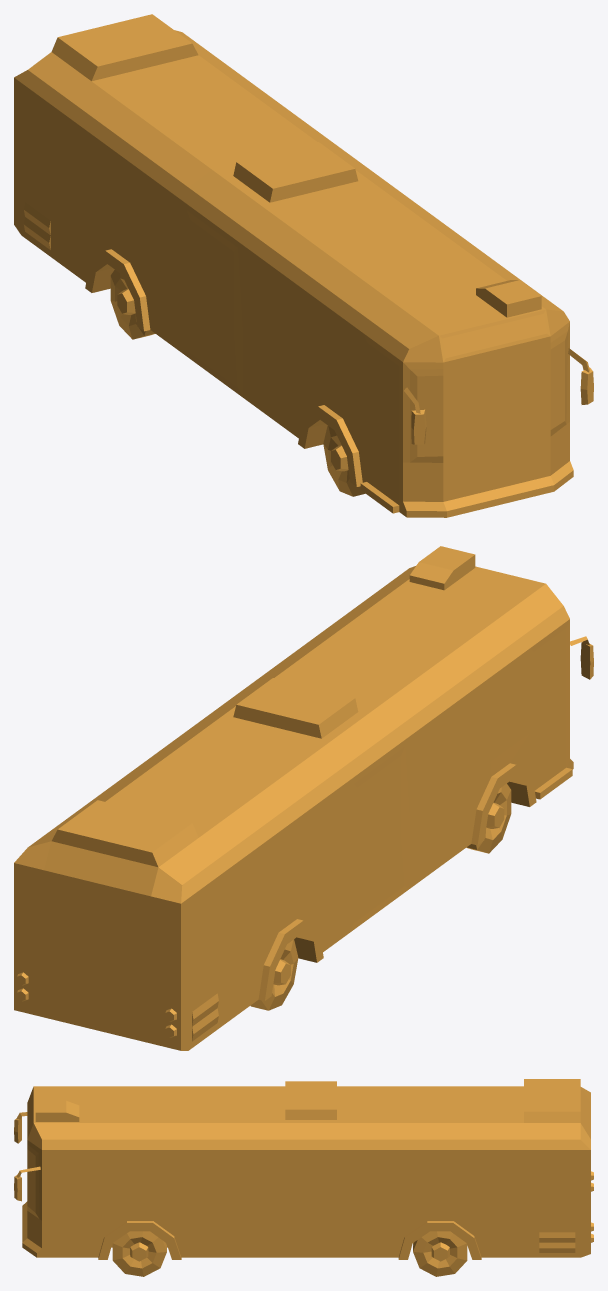
File: bus-passenger.glb
3 renders of one model, top to bottom at view 1: azimuth 30°, elevation 25°; view 2: azimuth 150°, elevation 25°; view 3: azimuth 270°, elevation 25°, orthographic. The views are drawn at different scales.
Visible parts, largest first — view 1: bus-passenger-base, bus-passenger-wheel_BR, bus-passenger-wheel_FR; view 2: bus-passenger-base, bus-passenger-wheel_FR, bus-passenger-wheel_BR; view 3: bus-passenger-base, bus-passenger-wheel_FL, bus-passenger-wheel_BL.
Boxes of the visible parts, x1,y1,x2,y2 form: bus-passenger-base: [14, 14, 593, 517]; bus-passenger-wheel_BR: [110, 270, 155, 339]; bus-passenger-wheel_FR: [323, 425, 365, 496]; bus-passenger-base: [14, 546, 593, 1050]; bus-passenger-wheel_FR: [466, 783, 511, 853]; bus-passenger-wheel_BR: [250, 939, 298, 1010]; bus-passenger-base: [14, 1079, 593, 1259]; bus-passenger-wheel_FL: [112, 1231, 166, 1276]; bus-passenger-wheel_BL: [413, 1231, 467, 1276].
Bounding box in the file's own units: 2.85 × 3.34 × 11.28.
